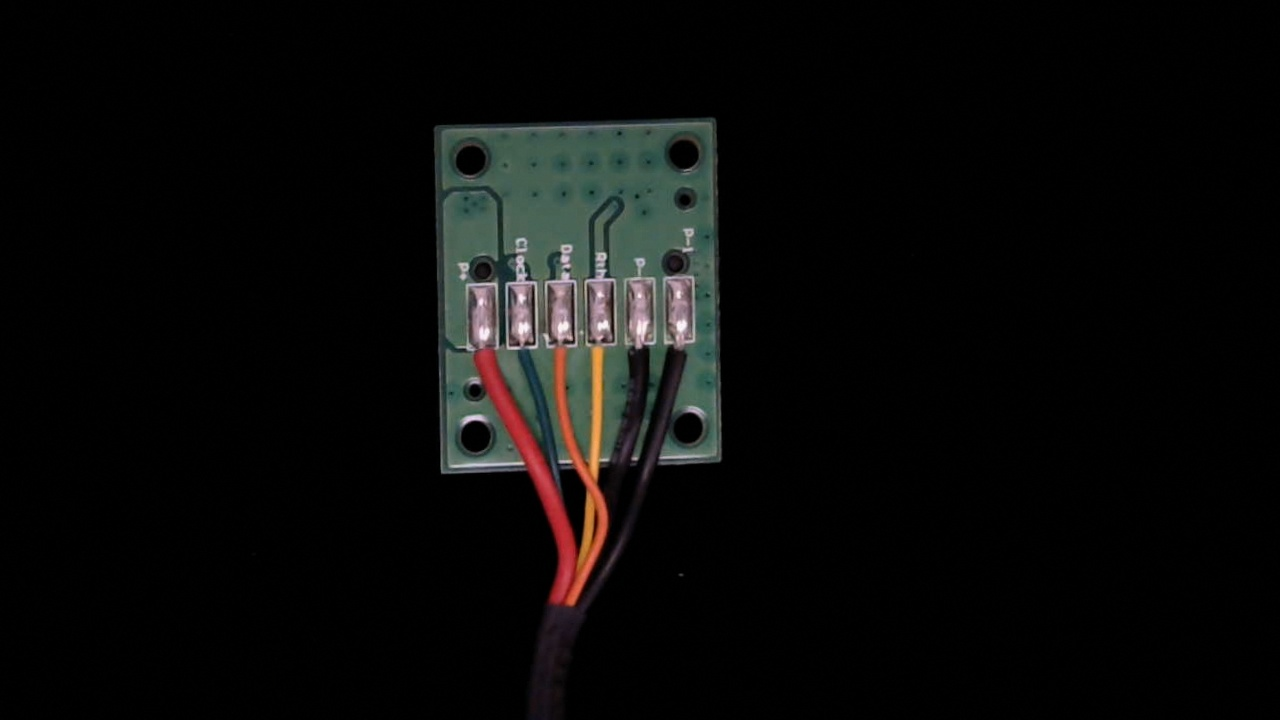Black: (624, 326, 655, 385)
Black1: (664, 326, 693, 392)
Green: (506, 326, 538, 391)
Orange: (545, 327, 575, 397)
Red: (466, 327, 499, 387)
Yellow: (586, 325, 614, 393)
